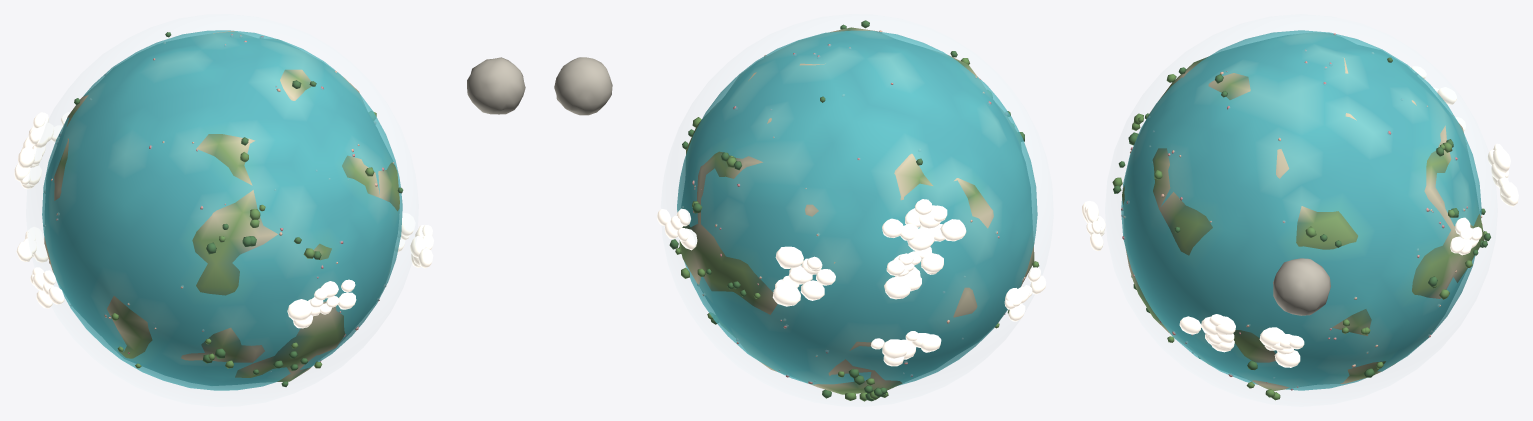
The model's file is planet_tide.glb.
3 views of the same model, side by side, from view 1: azimuth 30°, elevation 25°; view 2: azimuth 150°, elevation 25°; view 3: azimuth 270°, elevation 25° (orthographic).
Parts seen in each view (by area): view 1: Terrain, Water, CloudPuffs, MoonBody, Islands; view 2: Terrain, Water, CloudPuffs, MoonBody, Islands; view 3: Terrain, Water, CloudPuffs, Islands, MoonBody.
Boxes of the visible parts, x1,y1,x2,y2 form: Terrain: [44, 31, 399, 385]; Water: [42, 30, 402, 390]; CloudPuffs: [14, 112, 433, 328]; MoonBody: [467, 57, 525, 114]; Islands: [44, 32, 403, 386]; Terrain: [679, 27, 1034, 394]; Water: [677, 30, 1037, 385]; CloudPuffs: [657, 199, 1046, 366]; MoonBody: [554, 57, 612, 115]; Islands: [669, 20, 1039, 401]; Terrain: [1122, 33, 1484, 390]; Water: [1121, 30, 1481, 390]; CloudPuffs: [1082, 66, 1518, 367]; Islands: [1112, 33, 1490, 400]; MoonBody: [1273, 258, 1330, 315].
Bounding box in the file's own units: 3.06 × 2.18 × 2.42.
